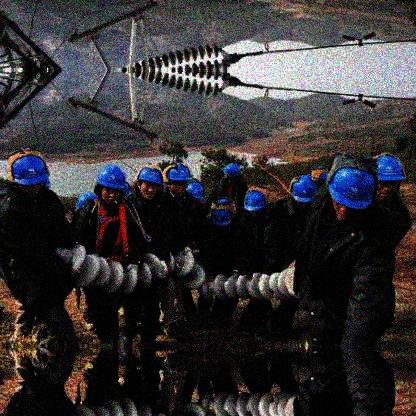helmet: (327, 157, 376, 222), (8, 149, 52, 197), (375, 152, 407, 200), (96, 164, 127, 205), (163, 163, 192, 197), (290, 173, 317, 208), (136, 166, 163, 200), (209, 198, 237, 228), (245, 191, 267, 217), (186, 181, 204, 205), (222, 163, 241, 185)
